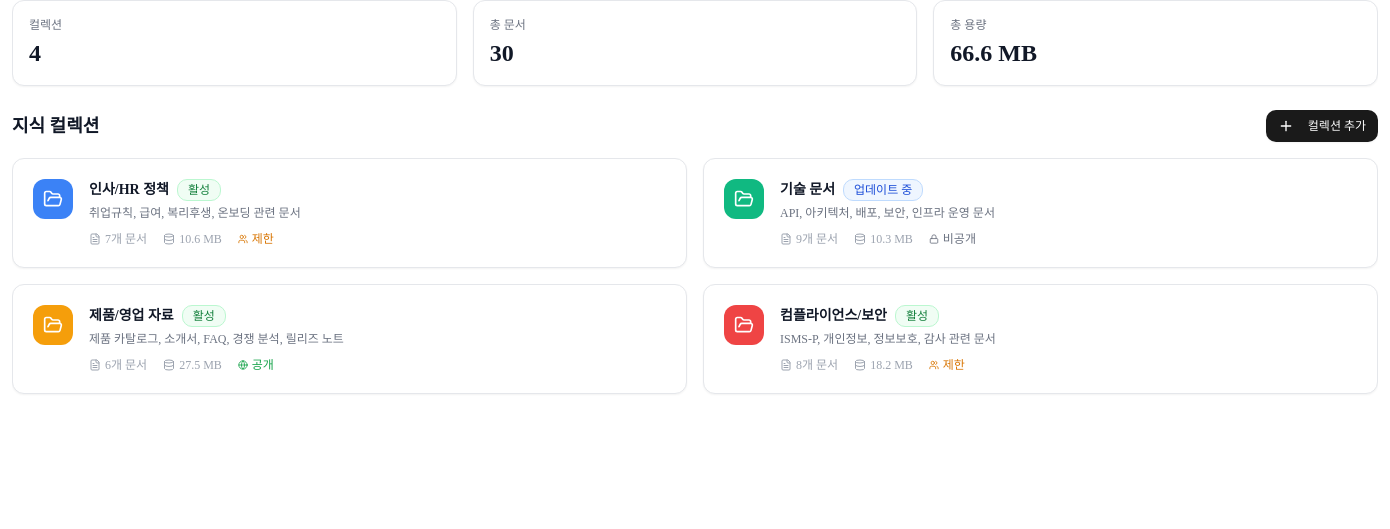
KnowledgeBaseView — Flow QA Tests › Flow 1: Collection Browse + Search + Back › full navigation flow: grid → documents → search → back → grid
The width and height of the screenshot is (1390, 529).
Check: the element with test id "collection-grid" is shown, box [12,158,1378,394]
Check: the element with test id "summary-bar" is shown, box [12,0,1378,86]
Click collection
Click the button "인사/HR 정책 활성 취업규칙, 급여, 복리후생, 온보딩 관련 문서 7개 문서 10.6 MB 제한": [53, 199] box [12,158,687,268]
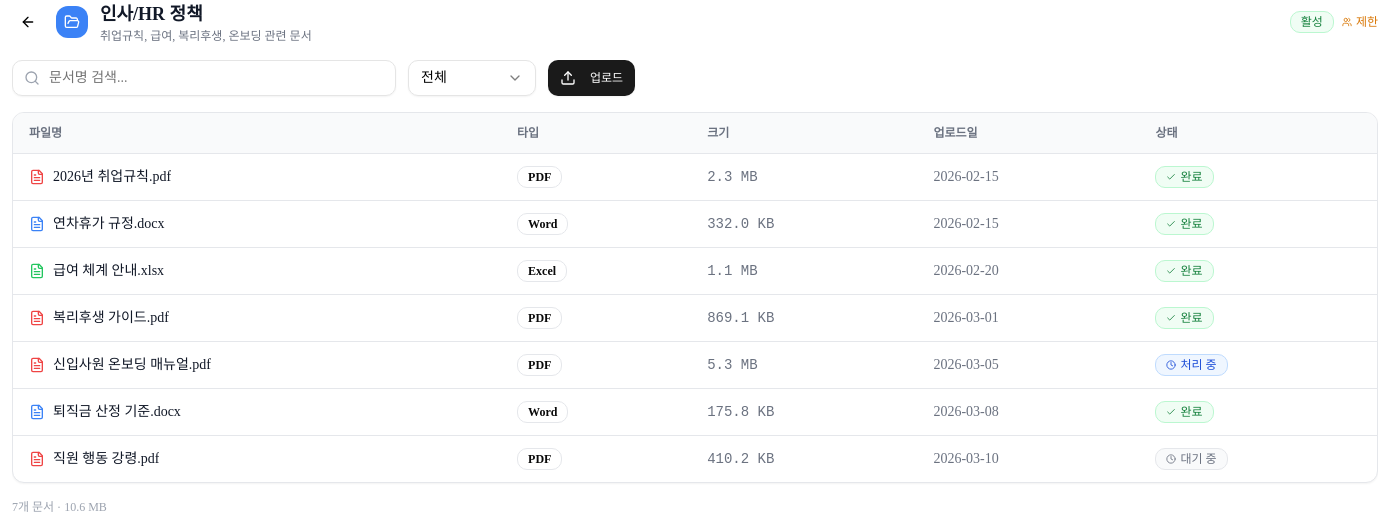
Check: the element with test id "collection-grid" is gone
Check: the heading "인사/HR 정책" is shown, box [100,4,203,24]
Check: the field named "문서 검색" is shown
Search for a document
In the field named "문서 검색": [204, 78] box [12,60,396,96], type "취업규칙"
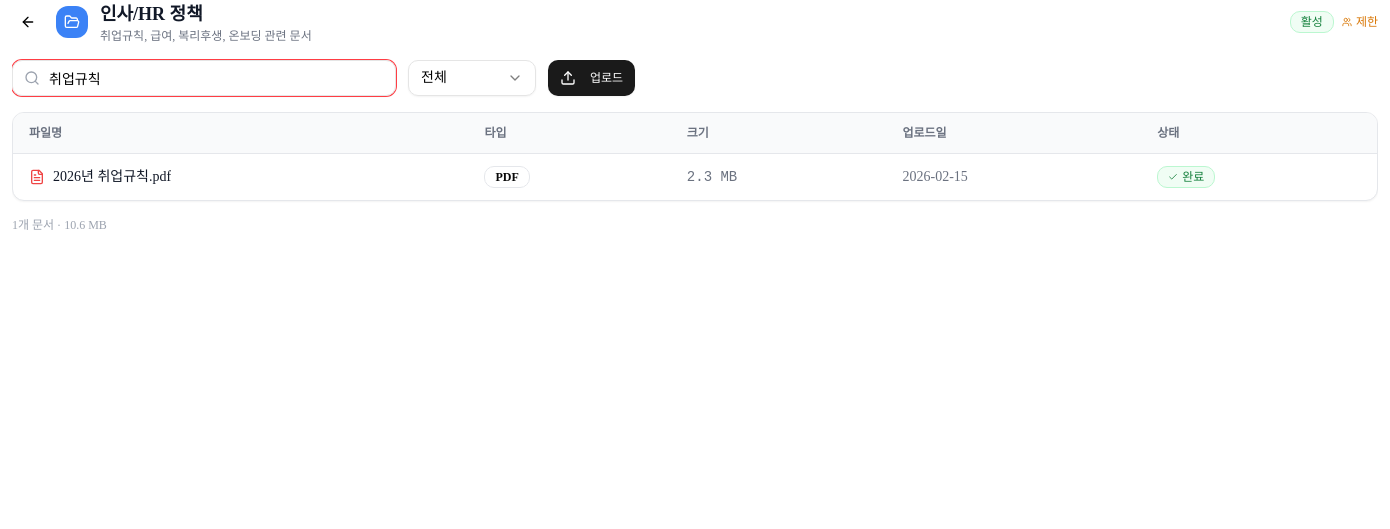
Check: the text "2026년 취업규칙.pdf" is shown, box [53,166,171,186]
Check: the text "1개 문서 · 10.6 MB" is shown, box [12,218,107,232]
Back to grid
Click the button named "컬렉션 목록으로 돌아가기": [28, 22] box [12,6,44,38]
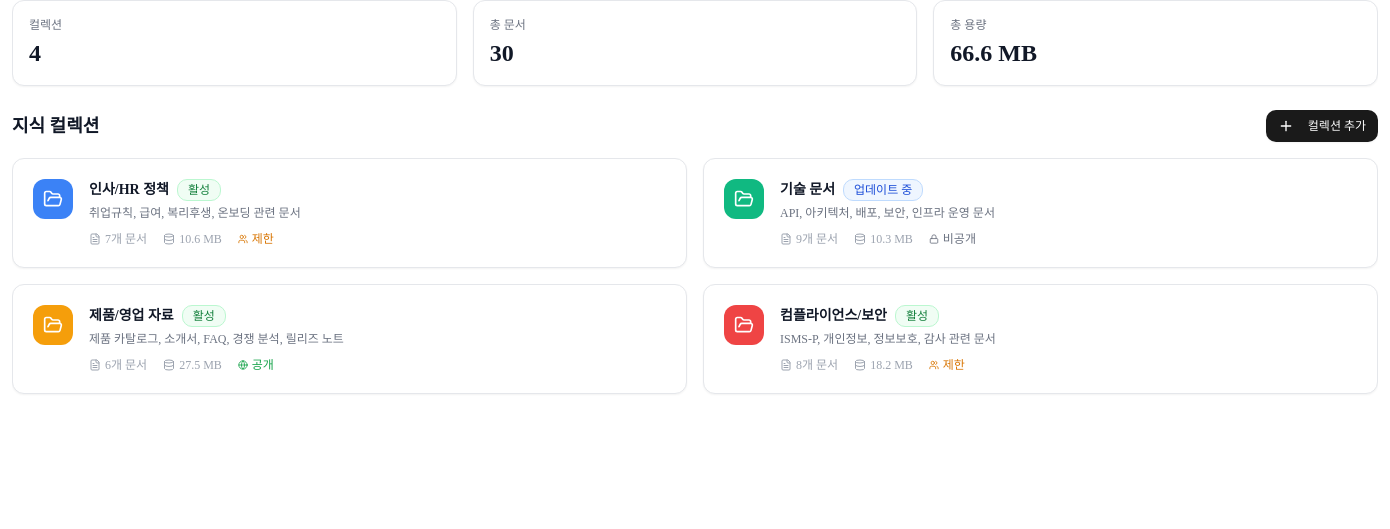
Check: the element with test id "collection-grid" is shown, box [12,158,1378,394]
Check: the element with test id "summary-bar" is shown, box [12,0,1378,86]
